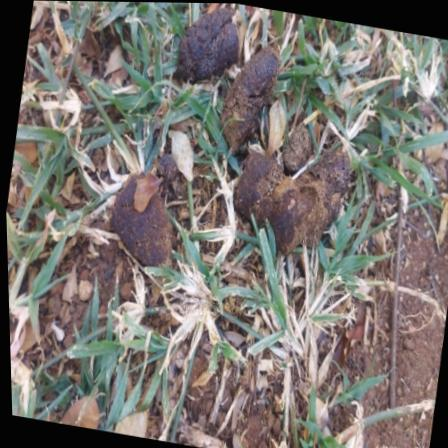dog-poop: (157, 2, 373, 240), (92, 164, 207, 270)
